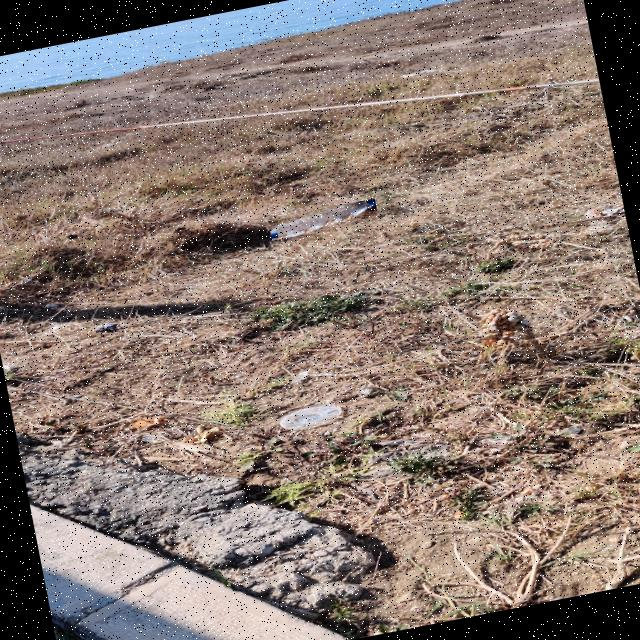Clear plastic bottle: (270, 200, 376, 239)
Plastic bottle cap: (271, 234, 278, 238)
Plastic film: (24, 278, 31, 284)
Plastic lid: (280, 405, 343, 431)
Unlabeled litter: (403, 70, 440, 78), (96, 323, 120, 332)
